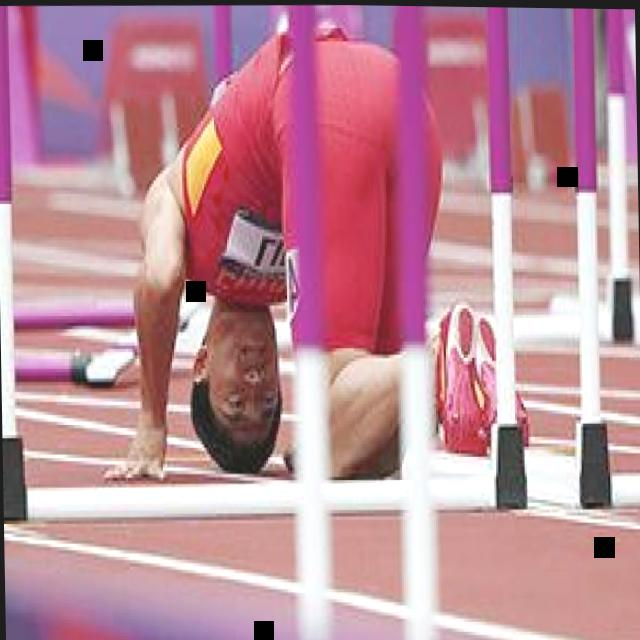Fall-Detected: (84, 1, 489, 478)
